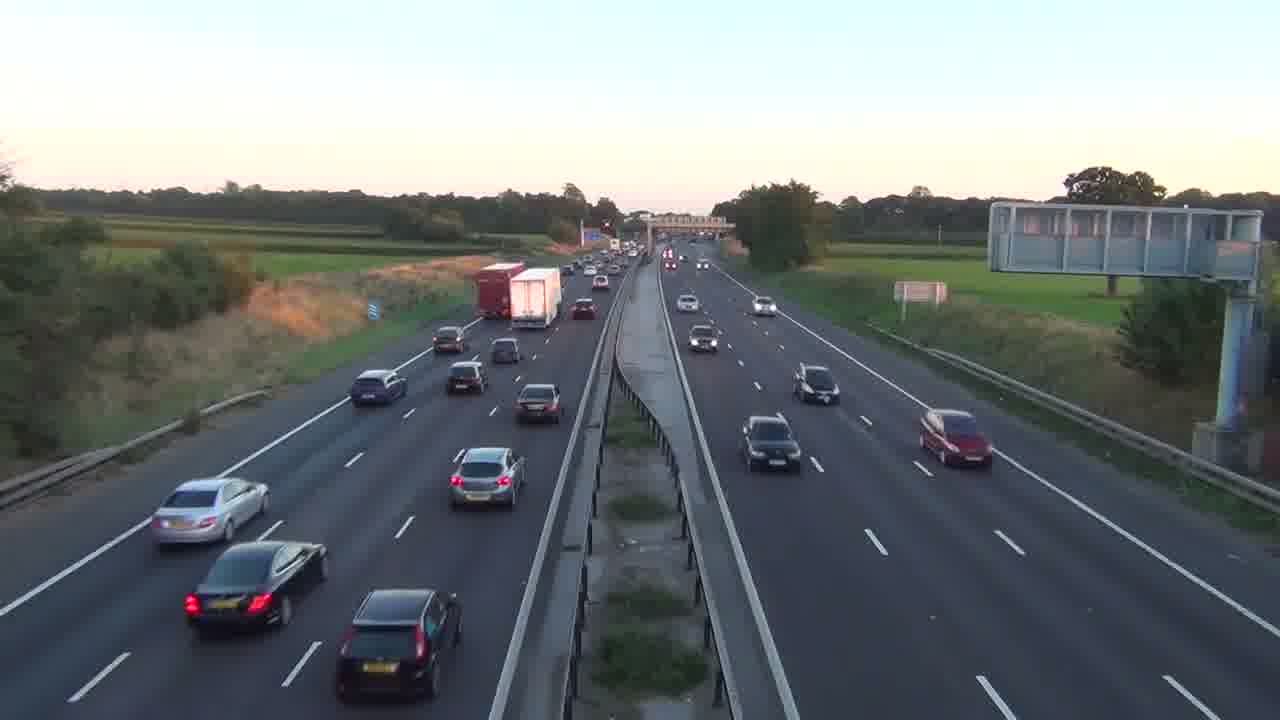car: (334, 587, 464, 704), (182, 538, 327, 633), (149, 476, 270, 549), (447, 446, 528, 510), (917, 406, 994, 468), (739, 413, 802, 472), (350, 367, 408, 406), (792, 362, 841, 406), (513, 383, 562, 424), (491, 337, 520, 364), (592, 276, 609, 289)
truck: (917, 406, 994, 468)
